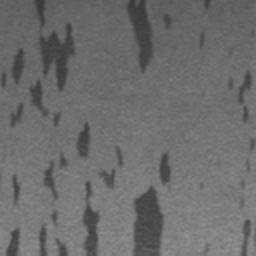Red iron sheet: (0, 0, 124, 256), (133, 154, 172, 255), (128, 0, 173, 73), (228, 72, 256, 148), (241, 219, 252, 256), (198, 31, 205, 47), (204, 0, 211, 10)
